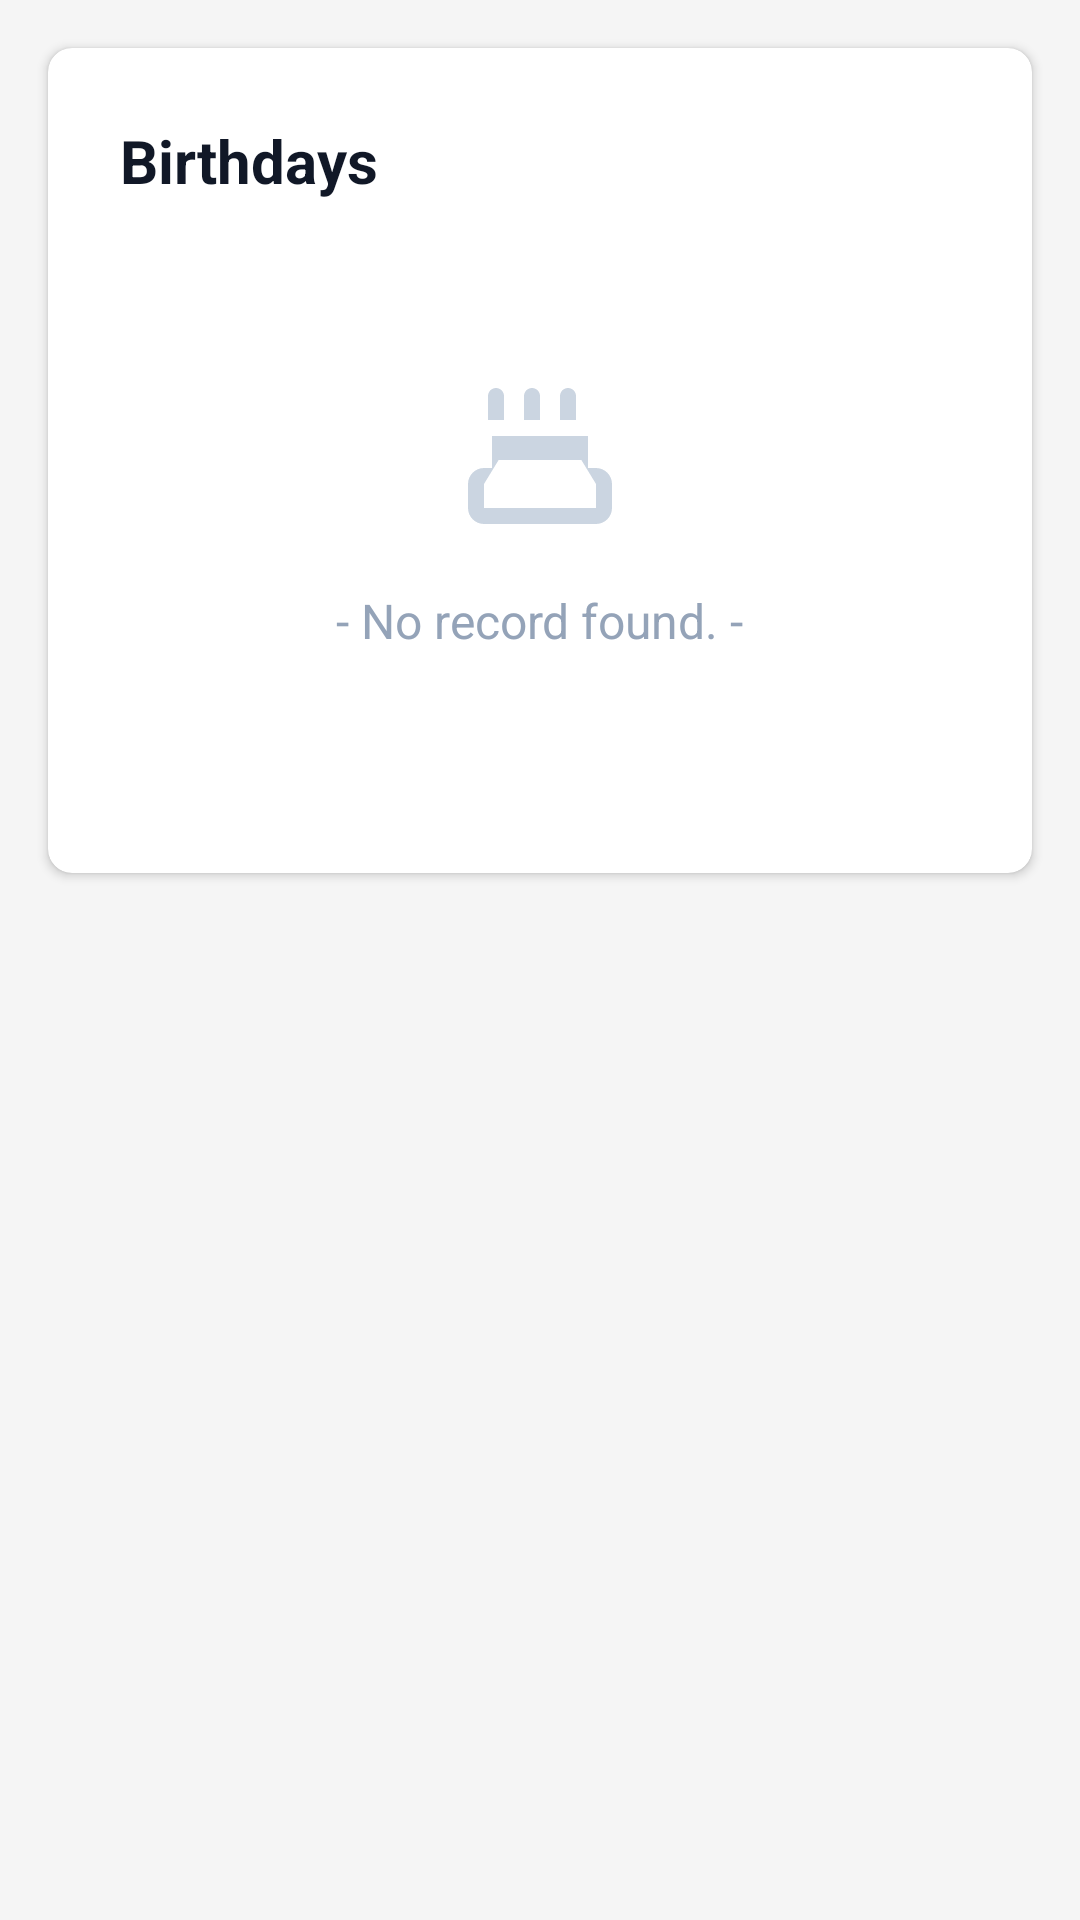

Named icons in this screenshot (1080x1920) and their bounding boxes, (x1, y1, x2, y2):
birthday cake: (468, 388, 612, 524)
